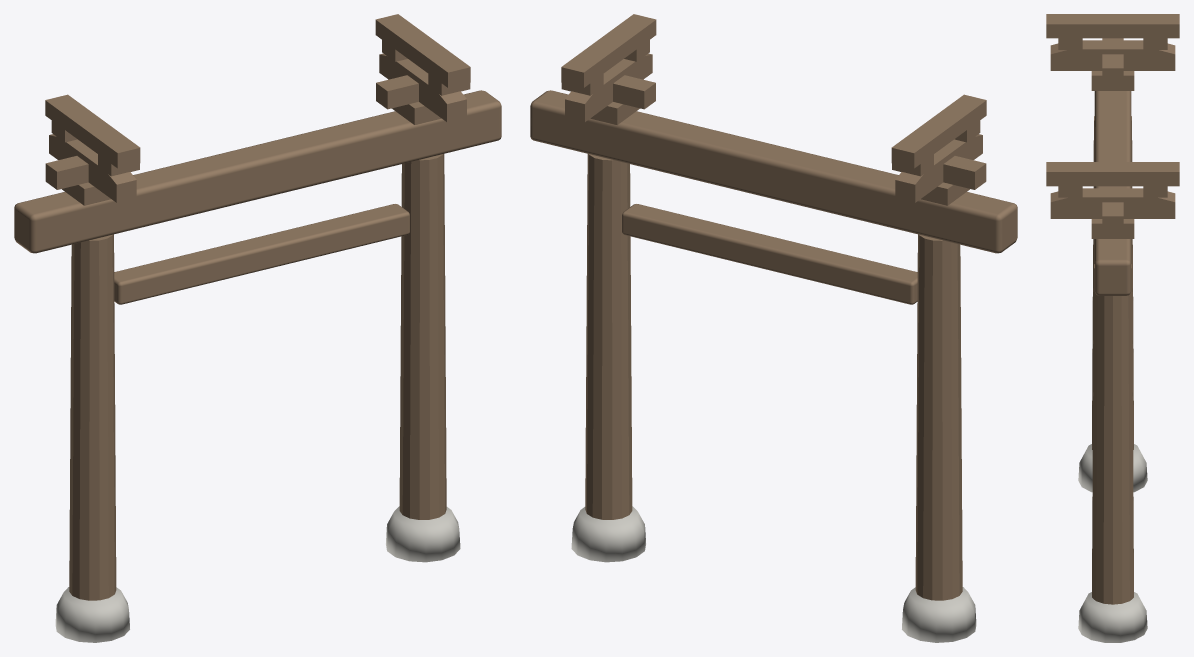
Rendered from korean-hanok-village-and-street-hanok-post-and-beam-fr-919433bc__38037.glb.
3 views of the same model, side by side, from view 1: azimuth 30°, elevation 25°; view 2: azimuth 150°, elevation 25°; view 3: azimuth 270°, elevation 25° (orthographic). The views are drawn at different scales.
Parts seen in each view (by area): view 1: hanok-post-and-beam-frame; view 2: hanok-post-and-beam-frame; view 3: hanok-post-and-beam-frame.
Boxes of the visible parts, x1,y1,x2,y2 form: hanok-post-and-beam-frame: (14, 14, 501, 642); hanok-post-and-beam-frame: (530, 14, 1017, 642); hanok-post-and-beam-frame: (1046, 14, 1179, 642).
Bounding box in the file's own units: 3 × 3.06 × 0.7992.
